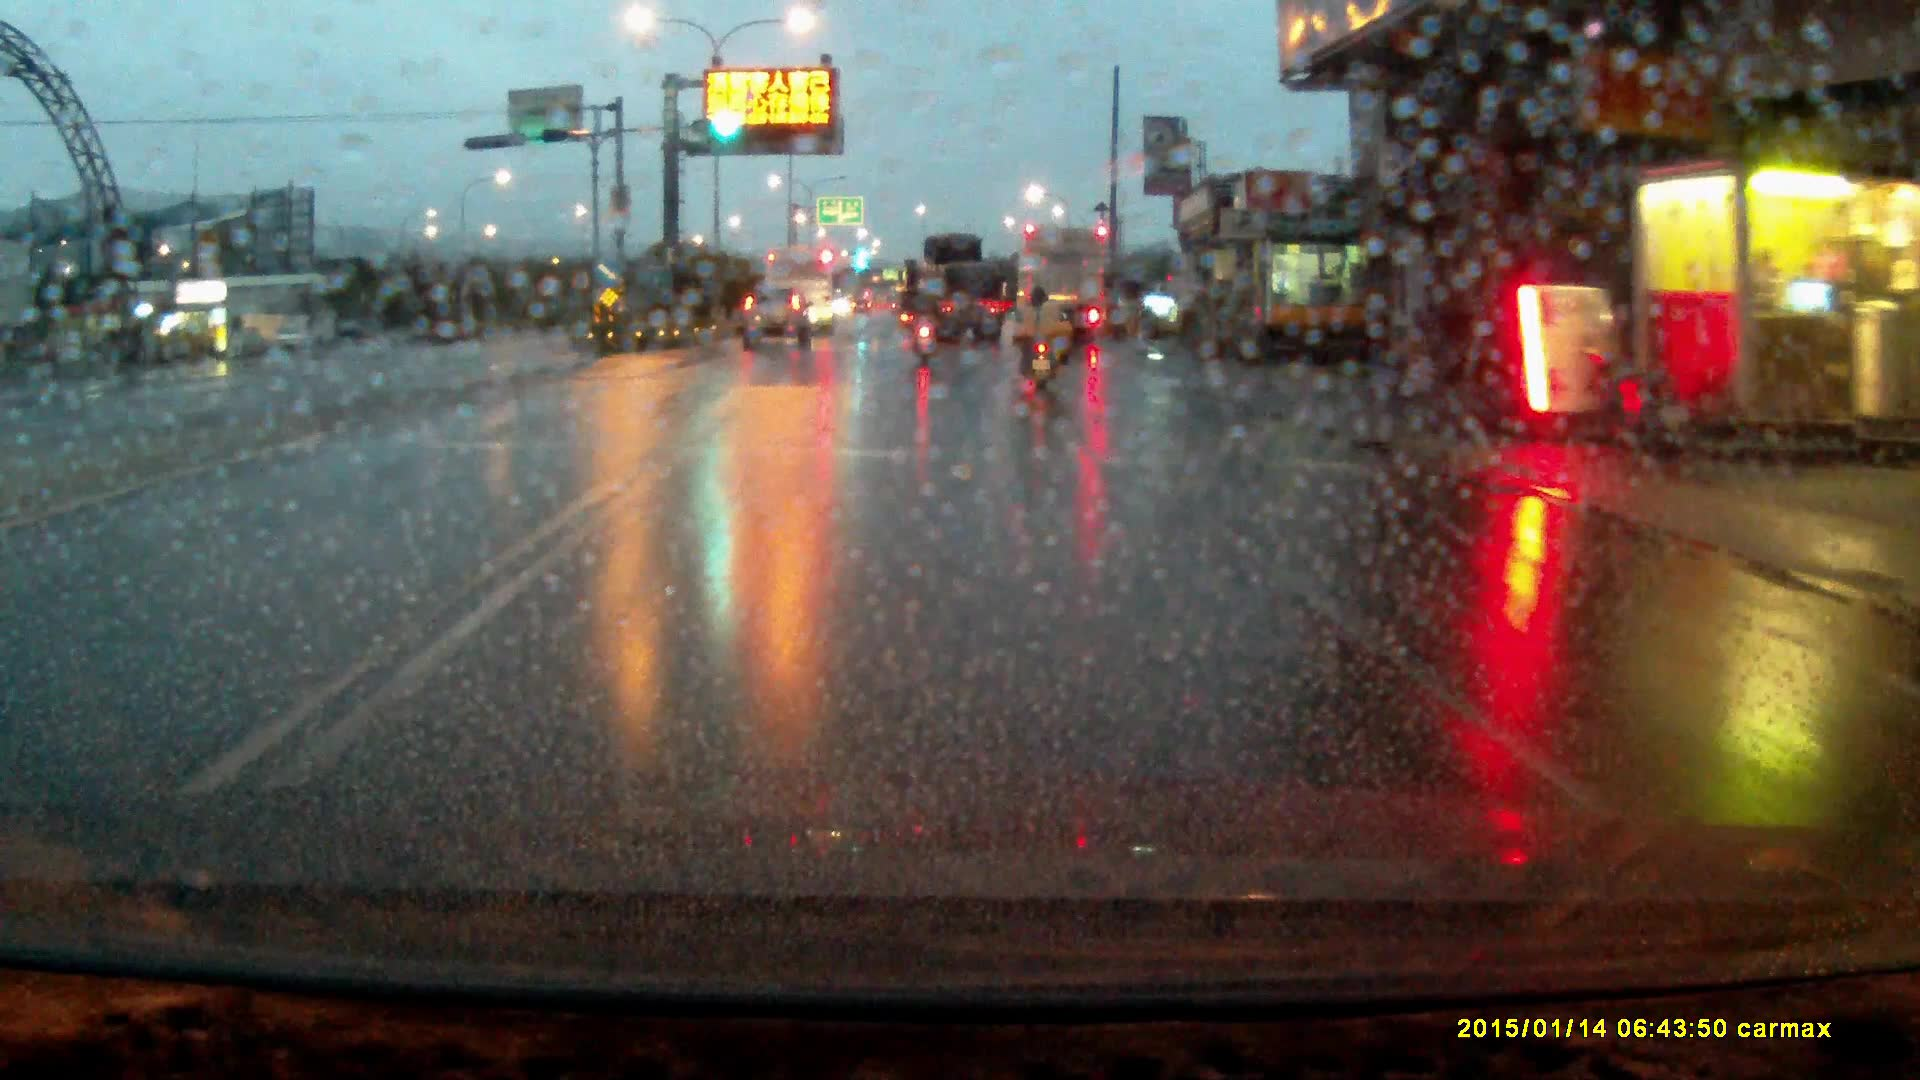rider: (1018, 287, 1064, 400), (905, 281, 940, 367)
vehicle: (1019, 224, 1112, 342), (910, 234, 1004, 347), (762, 246, 835, 336), (740, 285, 812, 350)
